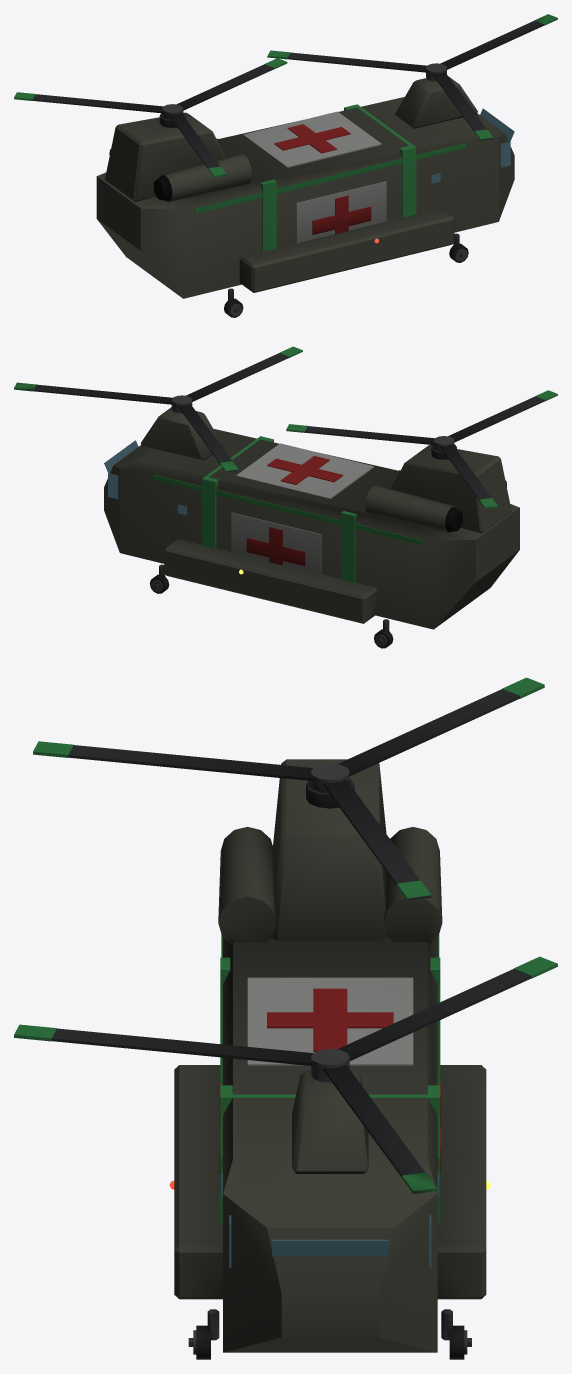
File: u_medevac.glb
3 views of the same model, one above another, from view 1: azimuth 30°, elevation 25°; view 2: azimuth 150°, elevation 25°; view 3: azimuth 270°, elevation 25° (orthographic). The views are drawn at different scales.
Visible parts, largest first — view 1: Medevac_Walls, Medevac_Details, Medevac_rotor; view 2: Medevac_Walls, Medevac_Details, Medevac_rotor; view 3: Medevac_Walls, Medevac_Details, Medevac_rotor.
Boxes of the visible parts, box(x1,y1,x2,y2) form: Medevac_Walls: box(96, 76, 514, 298); Medevac_Details: box(14, 58, 514, 317); Medevac_rotor: box(267, 14, 557, 140); Medevac_Walls: box(104, 407, 519, 629); Medevac_Details: box(104, 390, 557, 648); Medevac_rotor: box(14, 346, 302, 472); Medevac_Walls: box(174, 759, 486, 1352); Medevac_Details: box(33, 677, 544, 1359); Medevac_rotor: box(14, 956, 557, 1194).
Size of the model in its own units: 2.28 by 0.82 by 1.12.
